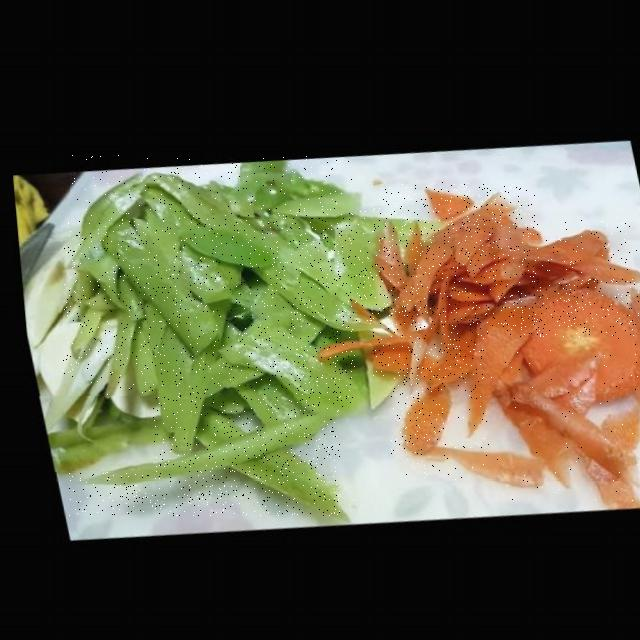biowaste: (64, 219, 294, 449), (374, 185, 536, 379), (70, 407, 340, 516), (71, 155, 354, 257), (484, 337, 635, 501), (270, 208, 428, 325), (514, 279, 639, 393), (212, 316, 355, 410), (458, 294, 534, 426), (246, 255, 382, 324), (39, 397, 153, 472), (486, 221, 639, 273), (407, 441, 539, 480), (173, 224, 274, 268), (391, 377, 446, 456), (422, 181, 471, 214)
